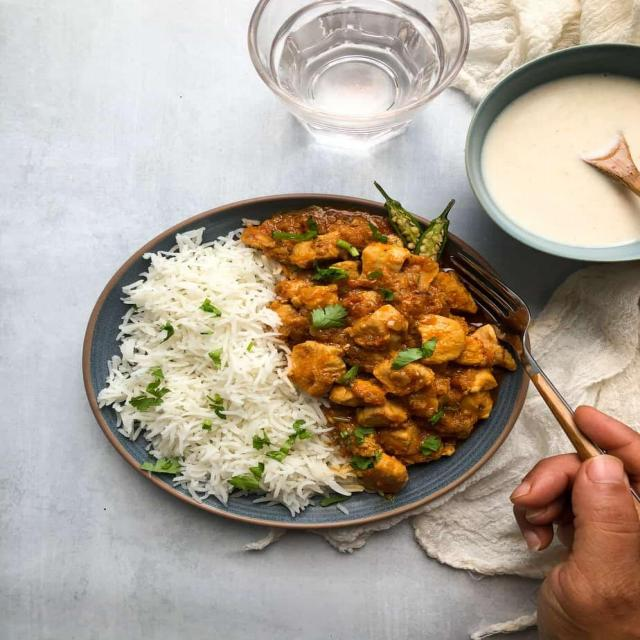chicken: (254, 205, 483, 486)
rice: (115, 238, 305, 507)
